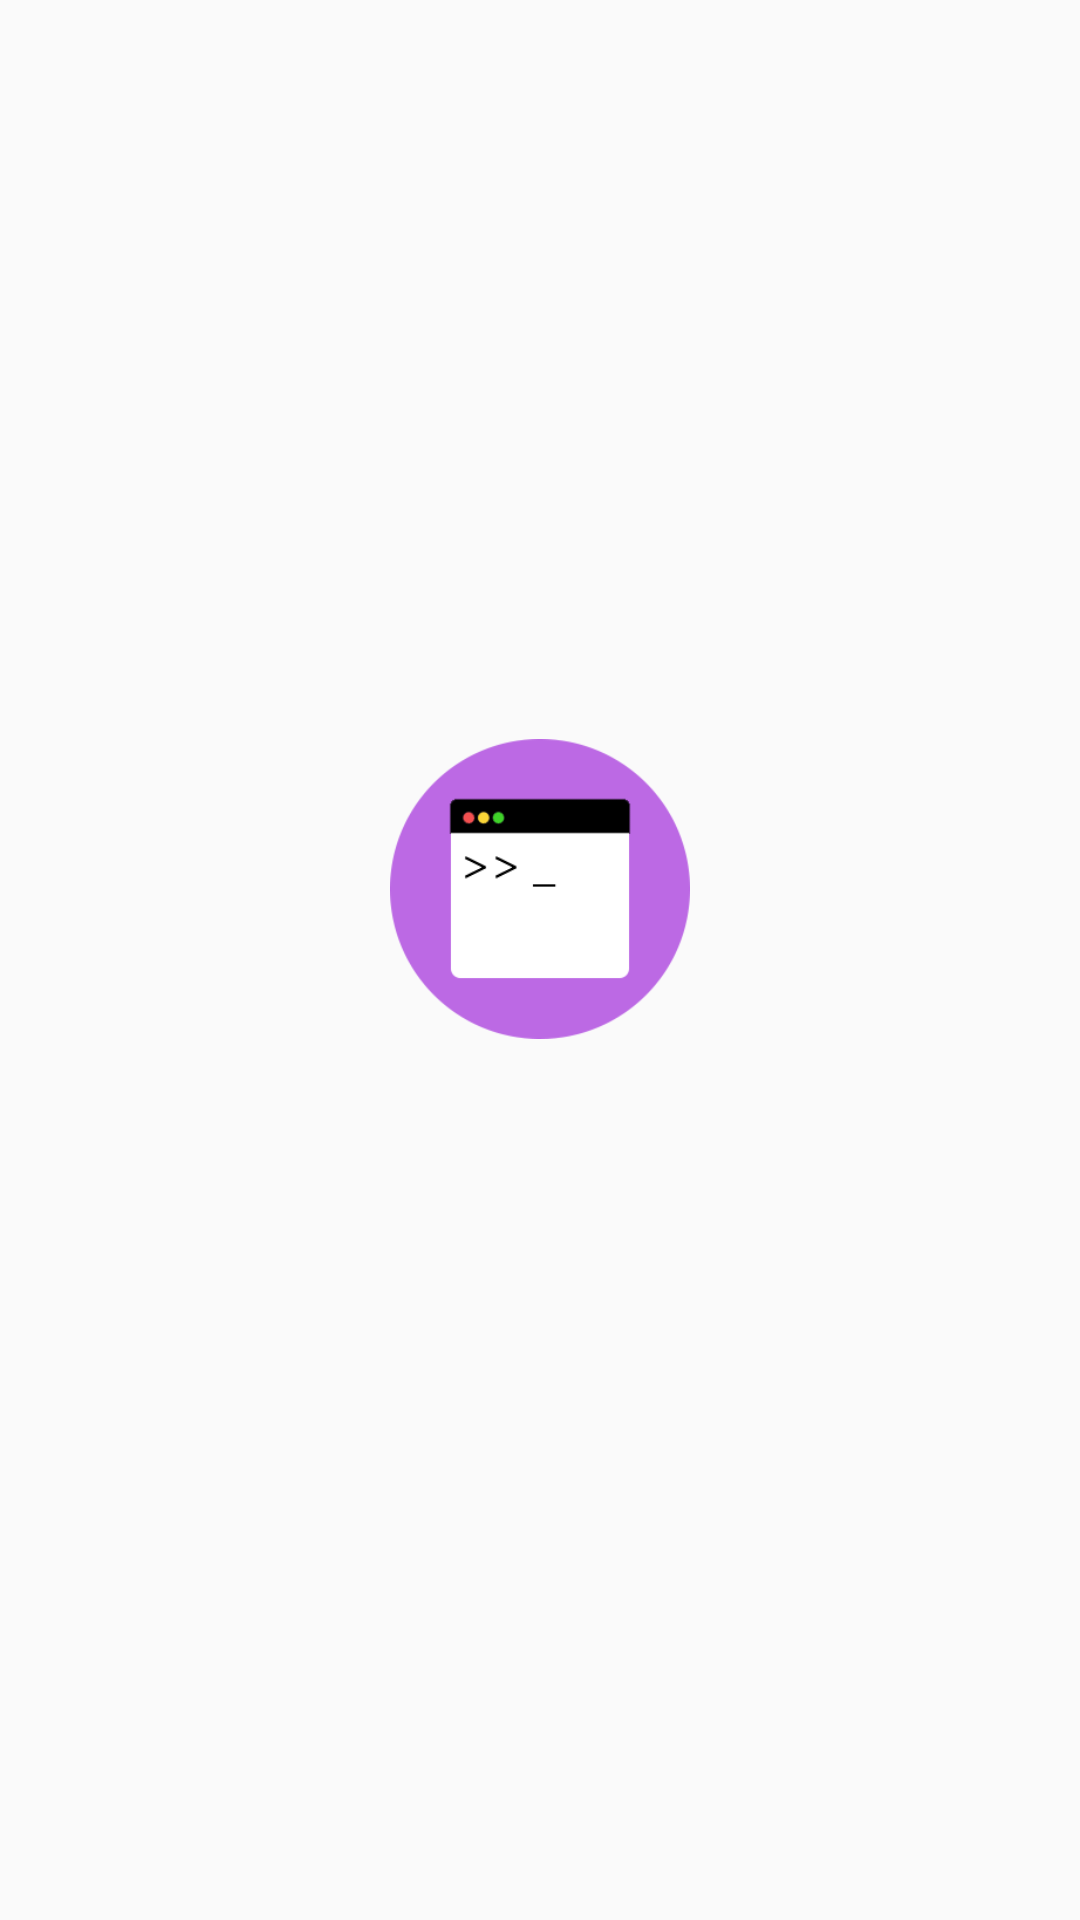

Named icons in this screenshot (1080x1920) and their centers, [x,y]:
terminal: [540,889]
